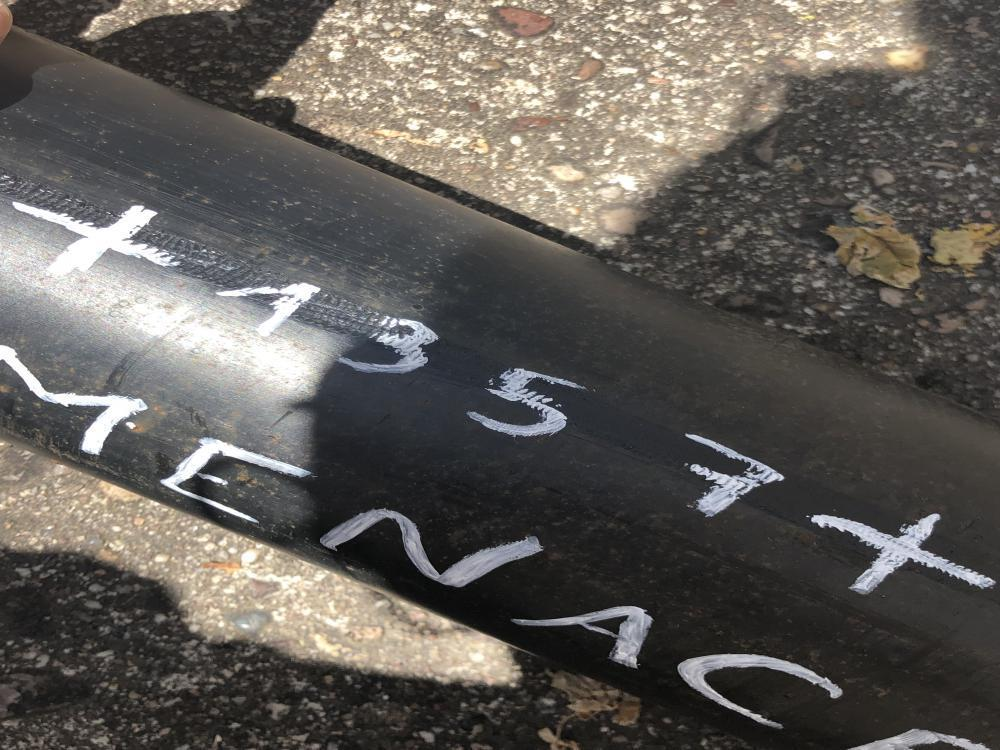+: (808, 512, 998, 594), (14, 202, 182, 276)
1: (216, 282, 322, 338)
3: (339, 318, 438, 376)
5: (467, 366, 587, 438)
7: (684, 433, 788, 518)
A: (511, 603, 652, 668)
C: (676, 652, 846, 728)
E: (163, 438, 312, 523)
M: (0, 341, 149, 457)
N: (322, 509, 542, 587)
